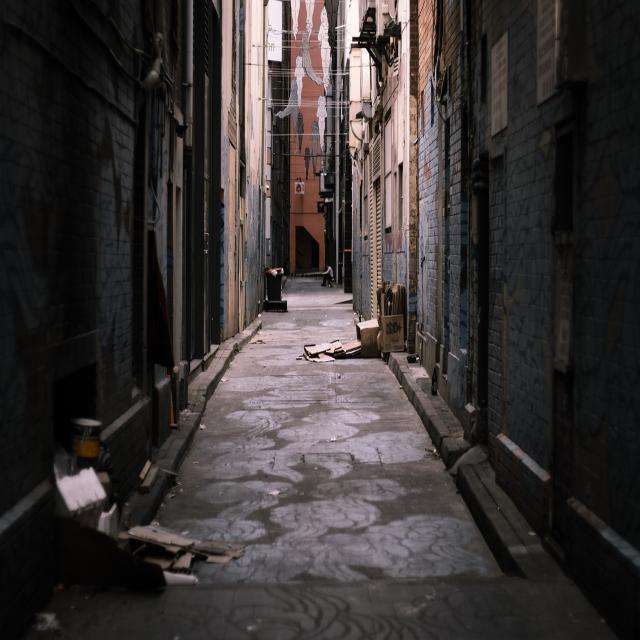cardboard: (59, 467, 198, 600), (304, 277, 408, 364)
plastic: (76, 418, 101, 458)
trash: (266, 262, 286, 299)
